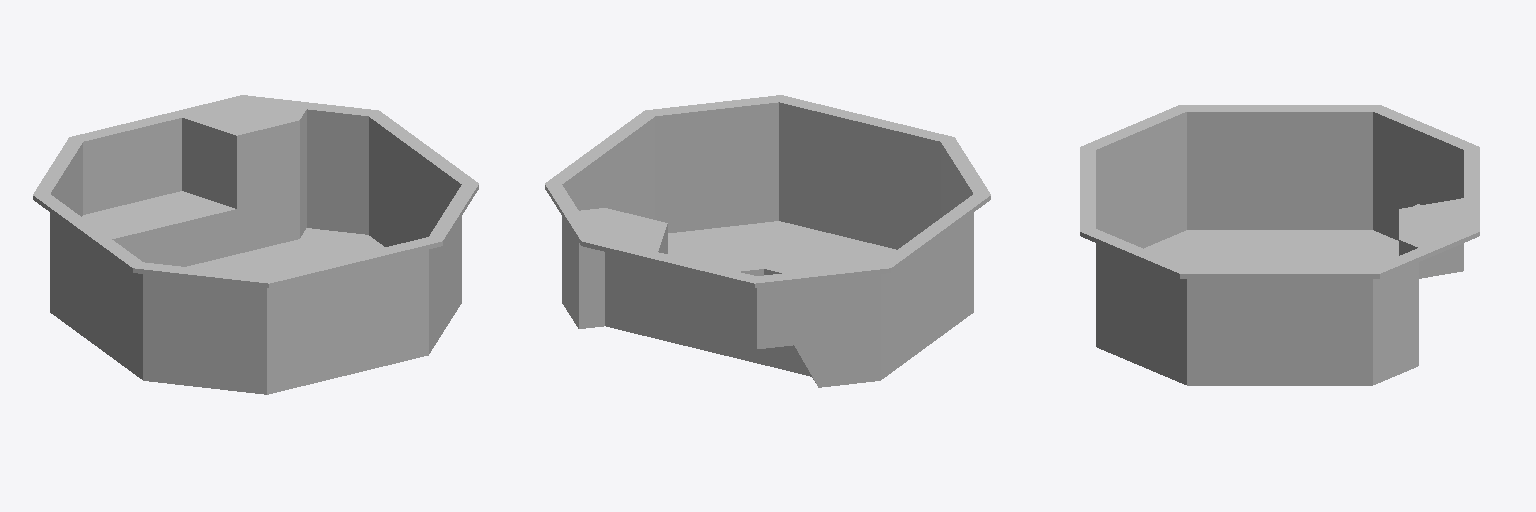
The model's file is KIARA BLANCA.obj.
The picture shows the model from 3 angles: view 1: azimuth 30°, elevation 25°; view 2: azimuth 150°, elevation 25°; view 3: azimuth 270°, elevation 25°; orthographic projection.
Visible parts, largest first — view 1: Mesh1 Group1 Model; view 2: Mesh1 Group1 Model; view 3: Mesh1 Group1 Model.
Part boxes in pixels (x1,y1,x2,y2): Mesh1 Group1 Model: (33, 95, 478, 394); Mesh1 Group1 Model: (545, 95, 990, 387); Mesh1 Group1 Model: (1080, 105, 1479, 385).
Bounding box in the file's own units: 204 × 75 × 204.